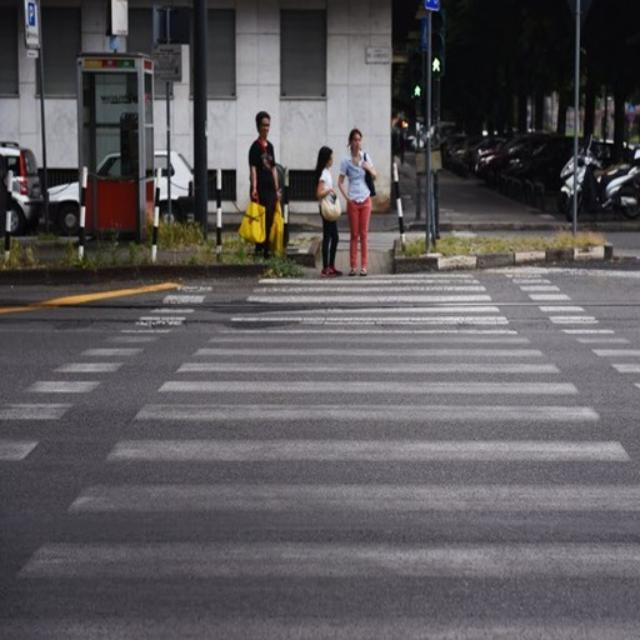sidewalk: (0, 222, 638, 640)
